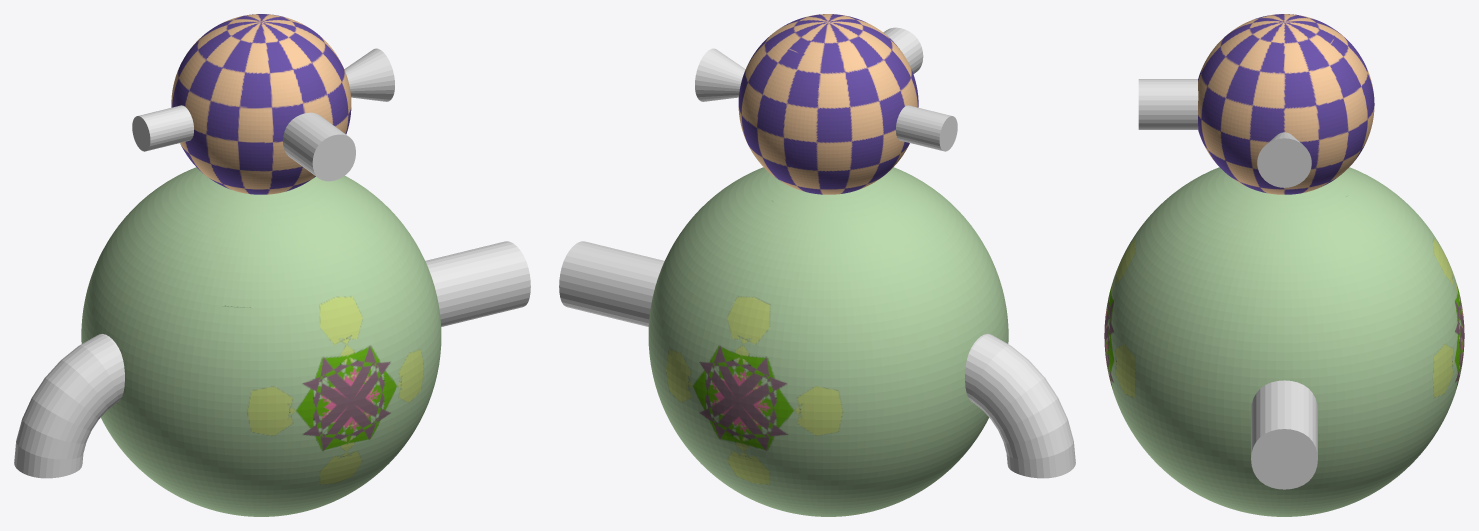
The model's file is BOD0_BMC14_BCC6_BPT0_FRC18_HEA0_HMC9_HCC12_HPT4_ELT1_ERT3_ELL2_ERL1_AP3_AAL2_AAR0_BEK1.fbx.
3 renders of one model, left to right at view 1: azimuth 30°, elevation 25°; view 2: azimuth 150°, elevation 25°; view 3: azimuth 270°, elevation 25°, orthographic.
Visible parts, largest first — view 1: Body, Arm.001, Arm, Beak, Ear, Ear.001; view 2: Body, Arm.001, Arm, Ear, Ear.001, Beak; view 3: Body, Arm, Beak, Ear.001.
Boxes of the visible parts, x1=… form: Body: x1=81, y1=14, x2=441, y2=516; Arm.001: x1=14, y1=334, x2=124, y2=478; Arm: x1=425, y1=241, x2=530, y2=326; Beak: x1=283, y1=112, x2=355, y2=181; Ear: x1=132, y1=105, x2=193, y2=151; Ear.001: x1=344, y1=48, x2=394, y2=101; Body: x1=648, y1=14, x2=1008, y2=516; Arm.001: x1=965, y1=334, x2=1075, y2=478; Arm: x1=559, y1=241, x2=664, y2=326; Ear: x1=896, y1=105, x2=957, y2=151; Ear.001: x1=695, y1=48, x2=745, y2=101; Beak: x1=883, y1=27, x2=923, y2=73; Body: x1=1104, y1=14, x2=1464, y2=516; Arm: x1=1251, y1=380, x2=1317, y2=489; Beak: x1=1138, y1=79, x2=1198, y2=129; Ear.001: x1=1257, y1=132, x2=1311, y2=187.
Bounding box in the file's own units: 78.31 × 72.41 × 49.36.
Materials: 1 (1 with a texture image).
